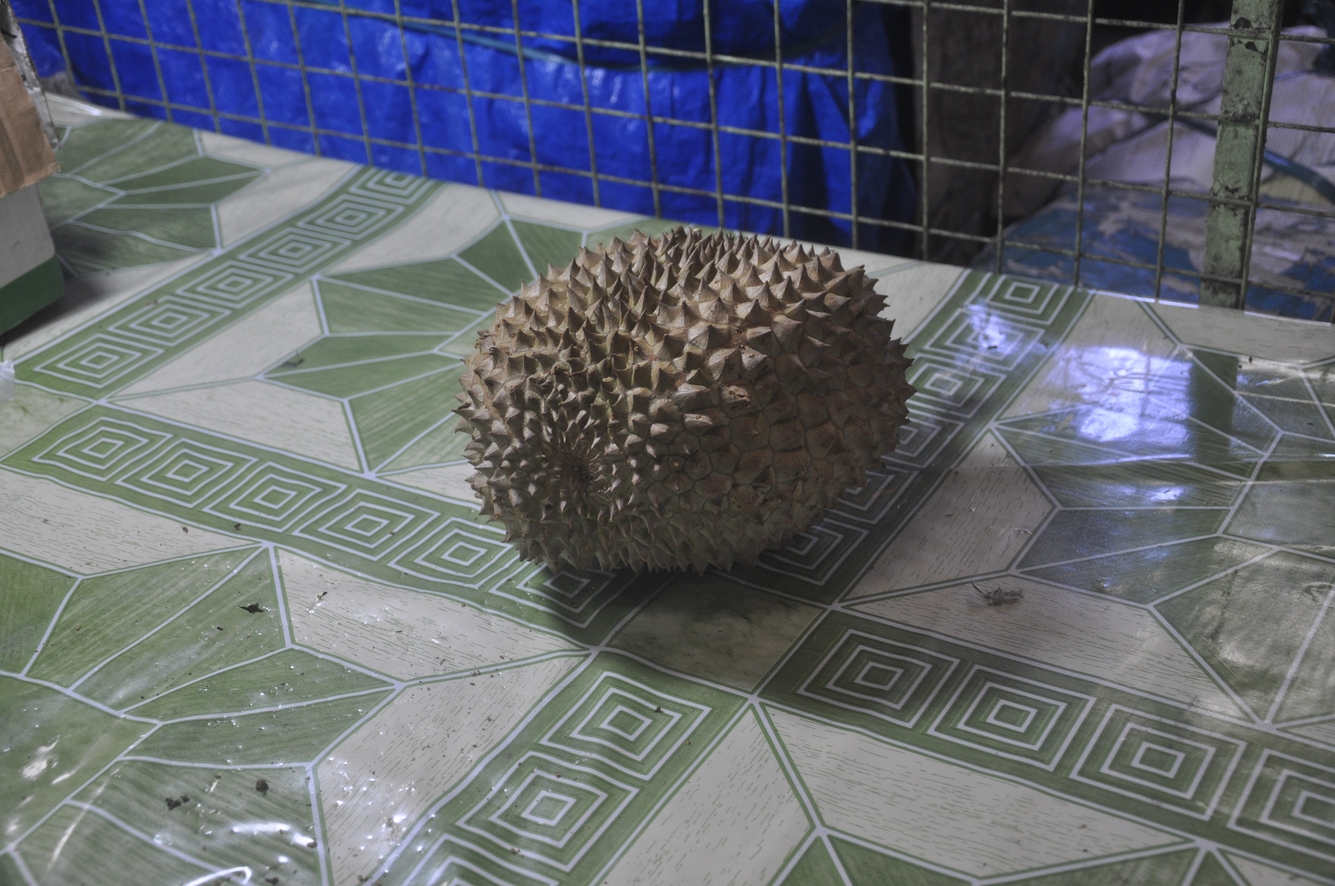mature: (455, 228, 915, 573)
